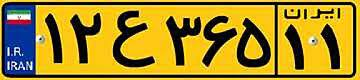character: (104, 8, 160, 70), (160, 9, 202, 69), (68, 8, 103, 68), (201, 10, 237, 68), (236, 11, 272, 69), (39, 9, 68, 67), (316, 21, 346, 73), (282, 22, 310, 73)
